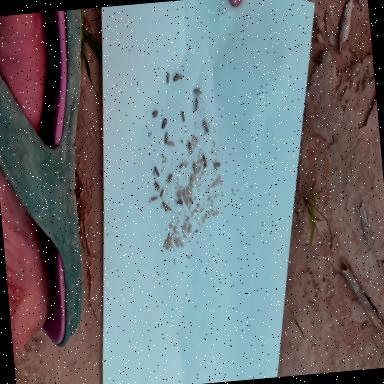pbw: (170, 72, 181, 82), (201, 121, 209, 134), (194, 98, 200, 112), (161, 118, 168, 130), (151, 110, 159, 120), (162, 202, 169, 212), (153, 180, 160, 190), (202, 155, 207, 168), (167, 140, 175, 148), (168, 174, 174, 184), (154, 166, 159, 178), (214, 163, 222, 170), (188, 142, 192, 155), (164, 132, 168, 145), (182, 110, 186, 122), (166, 73, 170, 85), (193, 162, 197, 174), (160, 187, 164, 197), (151, 197, 158, 202), (176, 200, 183, 205), (178, 164, 184, 169)
